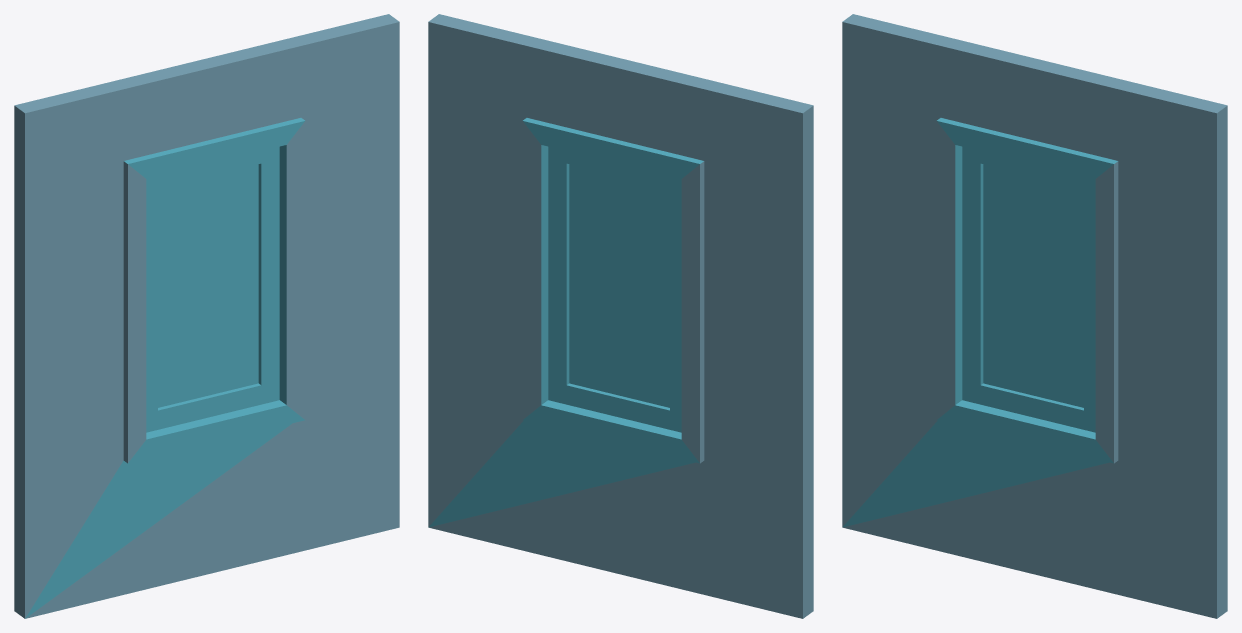
Rendered from glass.glb.
The picture shows the model from 3 angles, left to right: view 1: azimuth 30°, elevation 25°; view 2: azimuth 150°, elevation 25°; view 3: azimuth 330°, elevation 25°; orthographic projection.
Visible parts, largest first — view 1: glass_wallWindow(Clone), glass_window; view 2: glass_wallWindow(Clone), glass_window; view 3: glass_wallWindow(Clone), glass_window.
Boxes of the visible parts, <box> form: glass_wallWindow(Clone): <box>14,14,399,618</box>; glass_window: <box>146,146,279,432</box>; glass_wallWindow(Clone): <box>428,14,813,618</box>; glass_window: <box>548,146,681,432</box>; glass_wallWindow(Clone): <box>842,14,1227,618</box>; glass_window: <box>962,146,1095,432</box>.
Size of the model in its own units: 2.02 by 2.6 by 0.1796.
